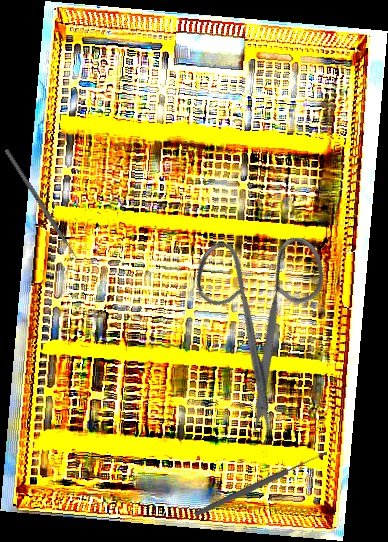Iris Scissors: (146, 196, 388, 442)
Pusher: (3, 148, 85, 269)
Surgical Spoon: (193, 449, 329, 519)
